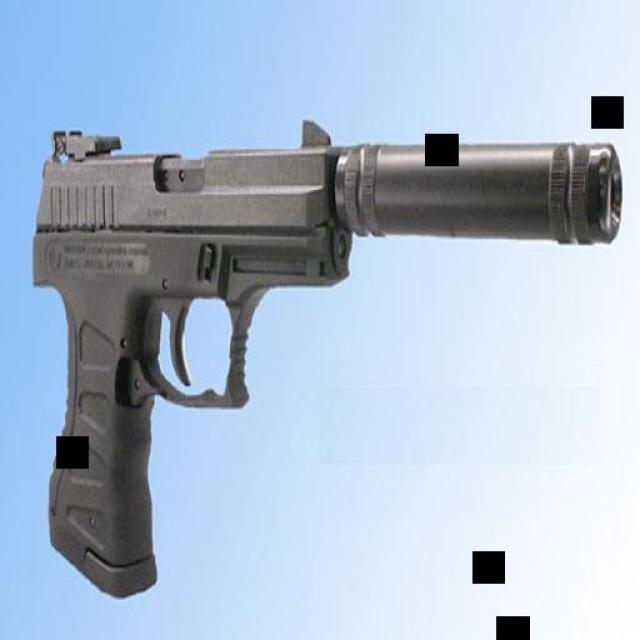gun: (28, 115, 620, 597)
